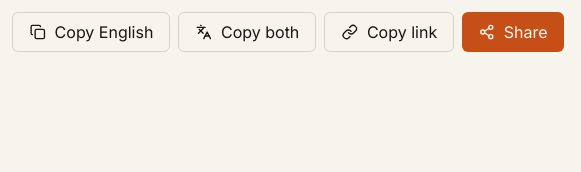
Test case: quote sharing controls › falls back to the selection-based copy when clipboard permission is denied
Click the button "Copy English" at (91, 32), box [12,12,170,52]
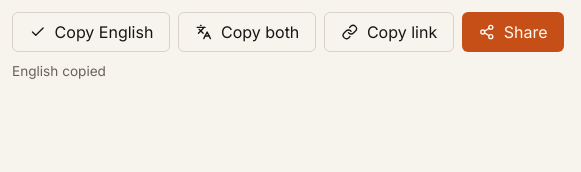
Expected: the message reads "English copied", [12,63,106,79]
